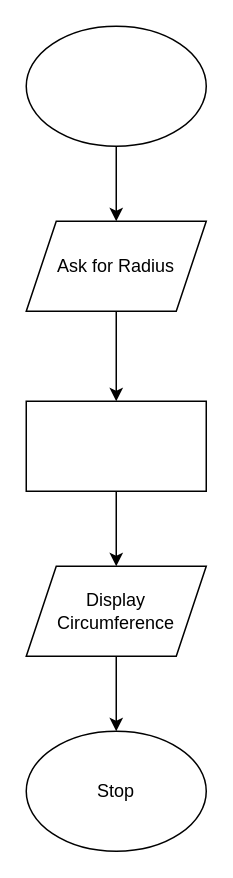
Image size: 233x878. Some labels were removed from this diagram. Here are the shapes that lost their labels. From the top down, the box of each, then its label:
(25, 25, 206, 146): Start
(25, 400, 206, 491): Circumference = tau * radius
